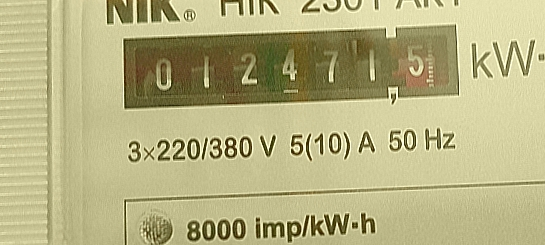0: (150, 54, 174, 91)
1: (364, 45, 376, 82), (199, 53, 211, 89)
2: (237, 49, 259, 86)
4: (279, 45, 298, 82)
5: (404, 39, 426, 78)
7: (318, 46, 339, 84)
screen: (111, 14, 470, 117)
